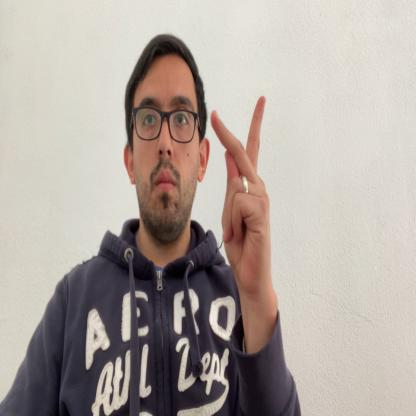P: (210, 94, 271, 300)
